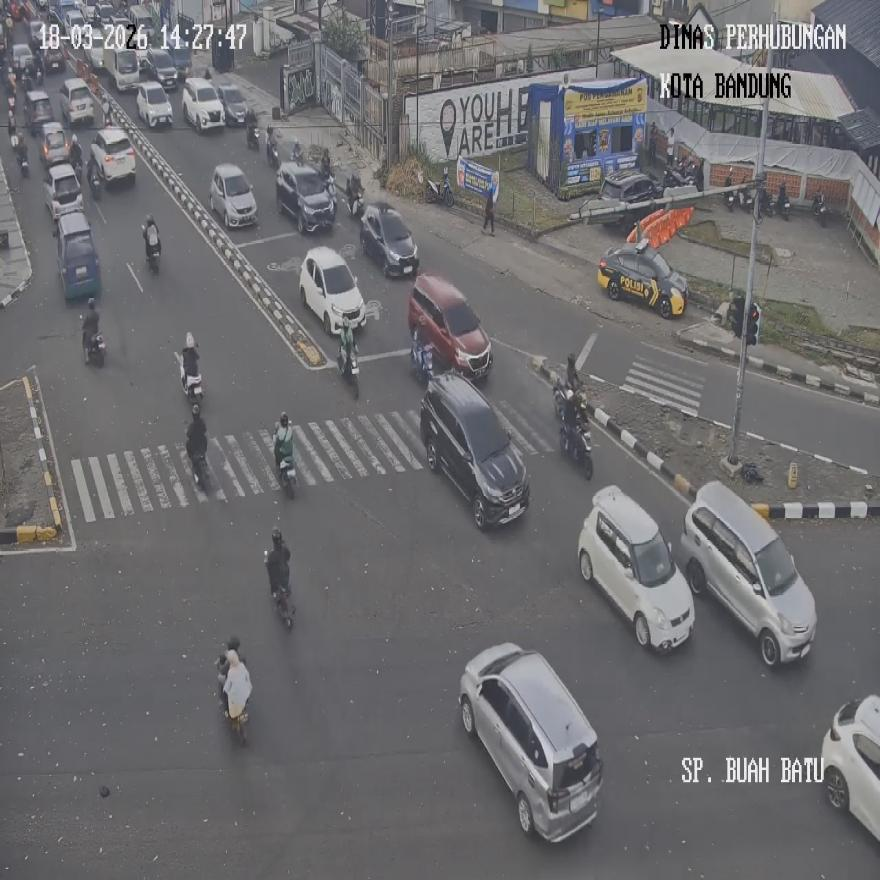Mobil: (459, 642, 603, 842), (679, 480, 817, 666), (577, 485, 694, 653), (421, 372, 529, 529), (407, 271, 493, 380), (820, 694, 880, 842), (597, 236, 689, 319), (298, 246, 365, 336), (360, 200, 419, 278), (599, 168, 663, 228), (209, 161, 257, 227)
Motor: (217, 652, 251, 746), (561, 419, 593, 479), (274, 424, 296, 499), (179, 350, 202, 414), (410, 325, 434, 384), (337, 341, 359, 397), (426, 174, 454, 208), (144, 221, 161, 273), (83, 326, 105, 366), (346, 172, 364, 218), (86, 158, 101, 198), (266, 127, 280, 166), (776, 183, 790, 220), (724, 168, 736, 211), (743, 182, 759, 213), (812, 191, 826, 226), (18, 142, 29, 178), (290, 138, 303, 163), (247, 122, 259, 149)
